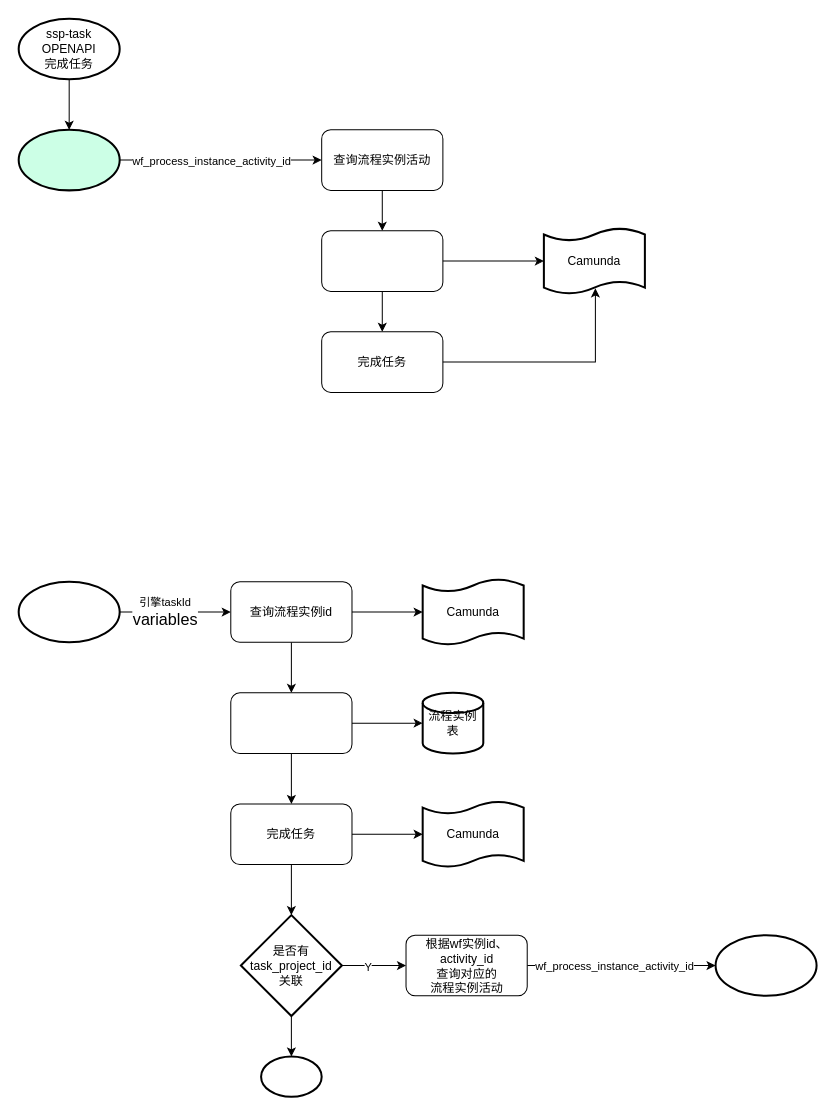
Some shapes in this 834 by 1115 pixel diagram are drawn without their labels. The centre of each missing label's shape, as x and y in pixels:
Feign 完成任务: the point at 68,159
OPENAPI 完成任务: the point at 68,611
ssp-task 完成任务: the point at 765,965
查询wf流程实例: the point at 291,722
查询流程实例中 activity_id相同的可办任务: the point at 382,260
结束: the point at 291,1076
